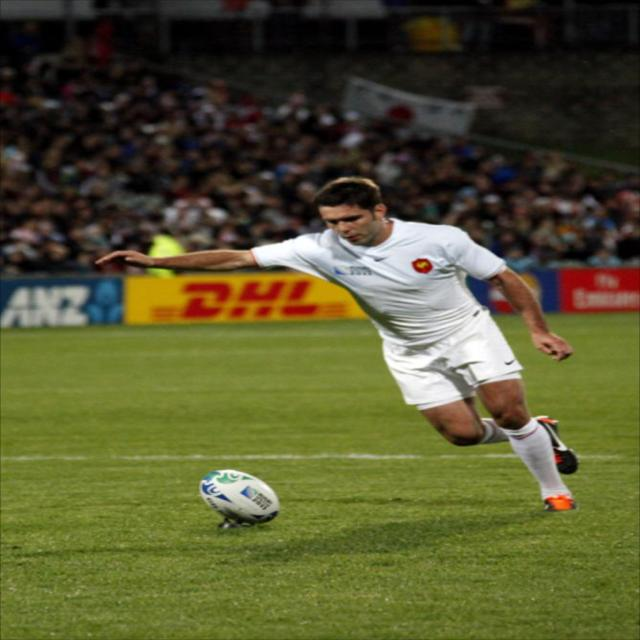Ball: (199, 469, 280, 524)
